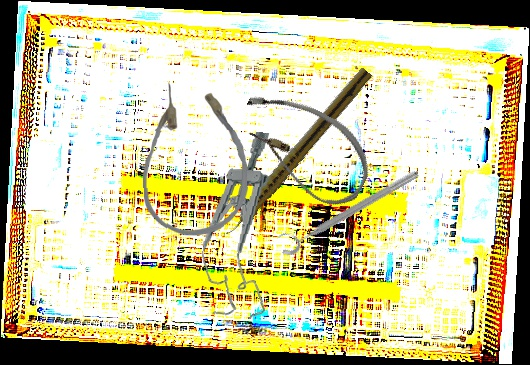Cannula: (222, 79, 385, 216), (141, 81, 249, 237)
Fixation Ring: (272, 158, 422, 260)
Handpiece: (220, 64, 373, 241)
Speculum: (195, 127, 284, 321)
